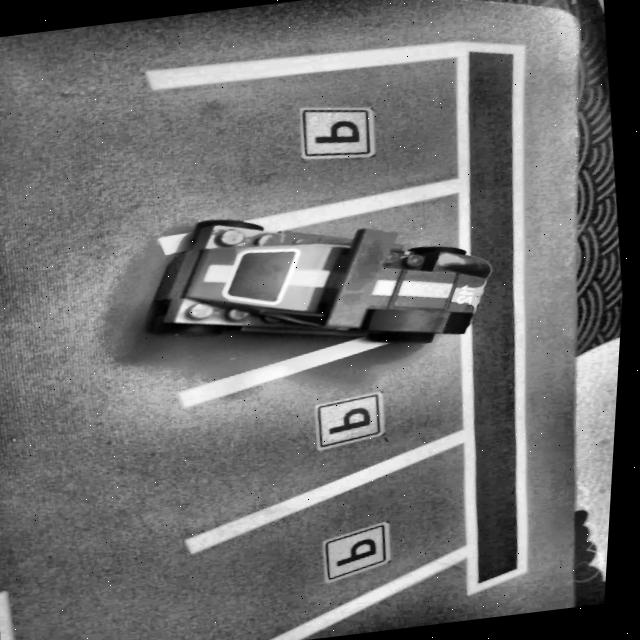car: (138, 186, 508, 377)
